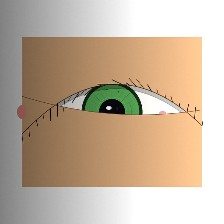hemorrhage_spot: (99, 96, 173, 156)
